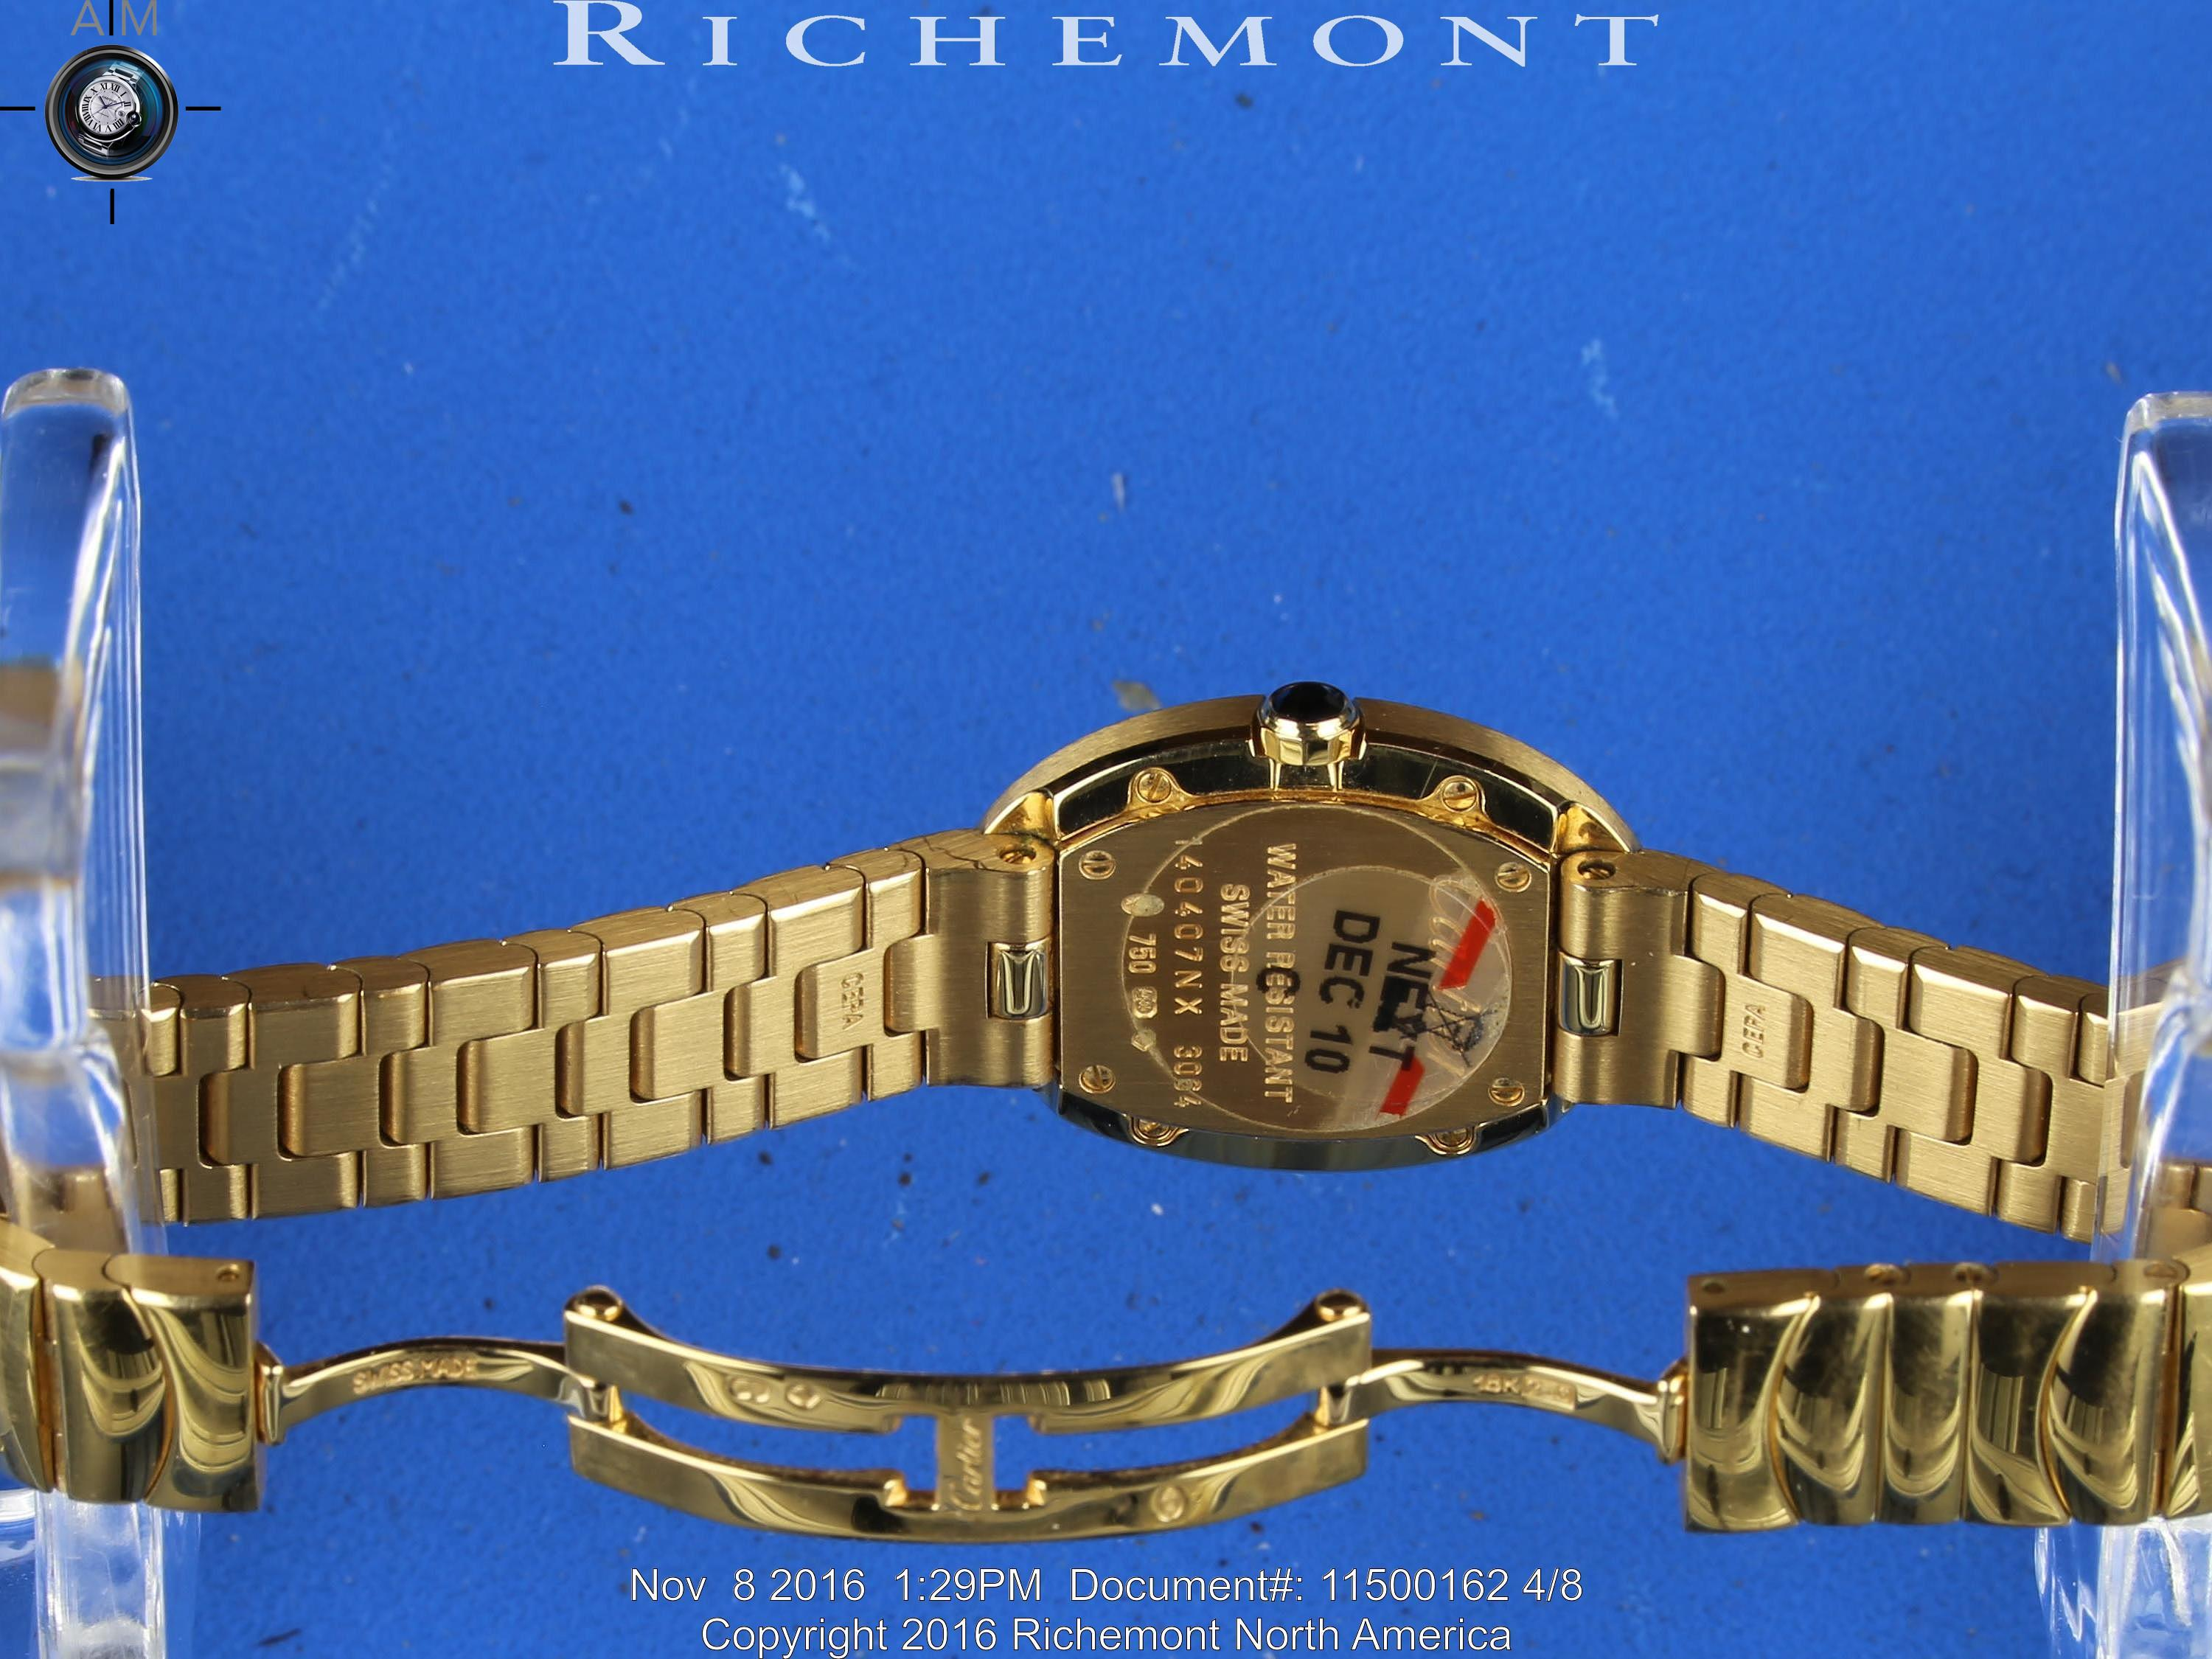Watch Back Case: (975, 671, 1639, 1185)
